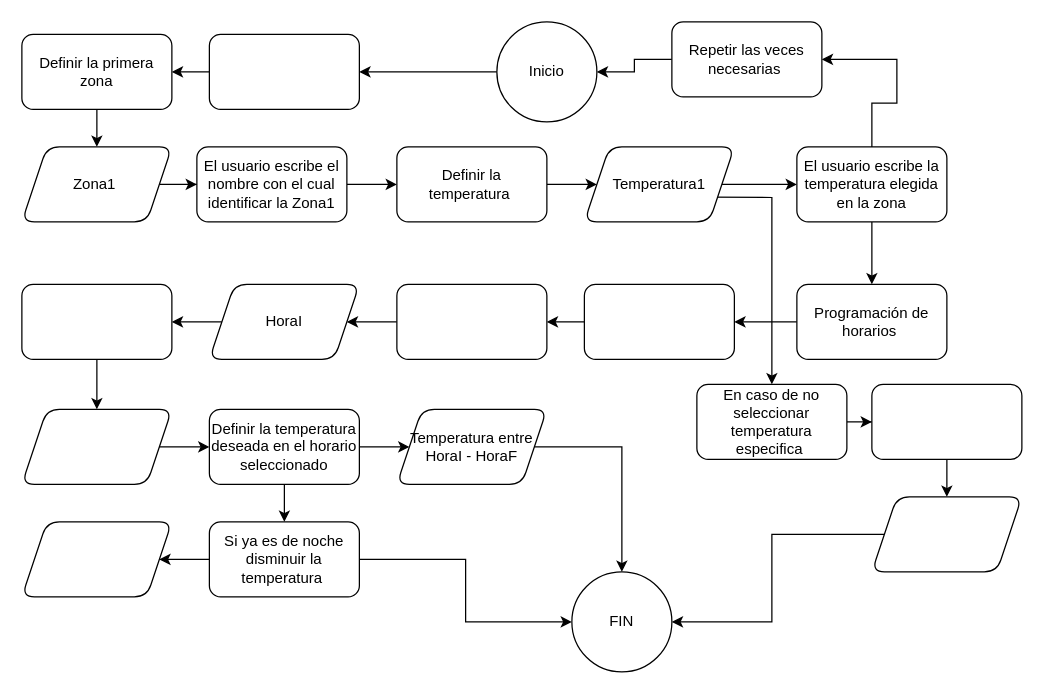
Image size: 1044x694. Some labels were removed from this diagram. Here are the shapes that lost their labels. From the top down, the centre of each, then its label:
At point (283, 71): "Configuración de zonas y temperatura".
At point (96, 321): "Definir la segunda hora".
At point (471, 321): "Definir la primera hora".
At point (658, 321): "Programar la temperatura deseada entre un horario".
At point (946, 421): "Definir una temperatura por defecto".
At point (96, 446): "HoraF".
At point (946, 534): "TemperaturaA = 22 grados".
At point (96, 559): "Si HoraI - HoraF > 19pm - 6am disminuir Temperatura".
